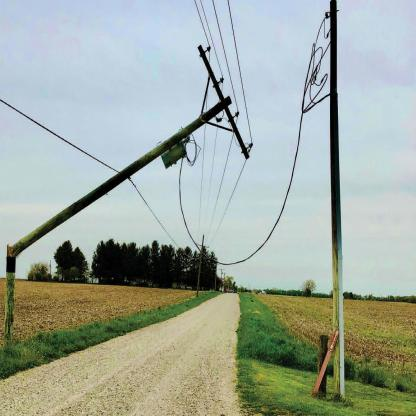Electrical Pole: (0, 36, 258, 307), (305, 2, 357, 405)
